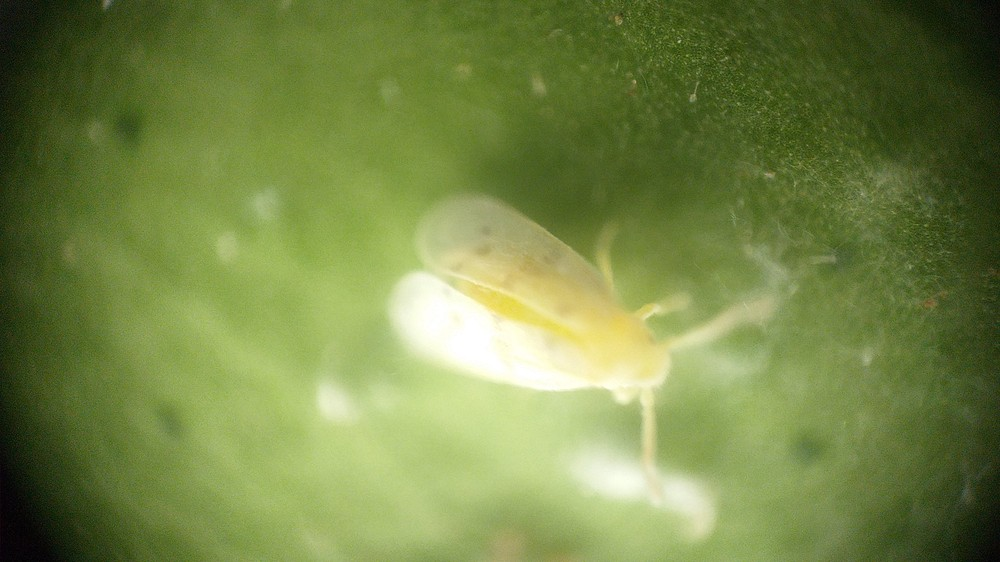Mosca Blanca: (362, 182, 787, 514)
